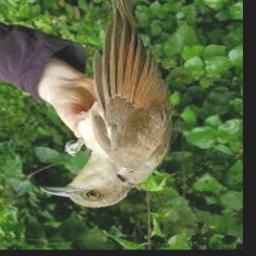Cuckoo: (40, 0, 173, 208)
